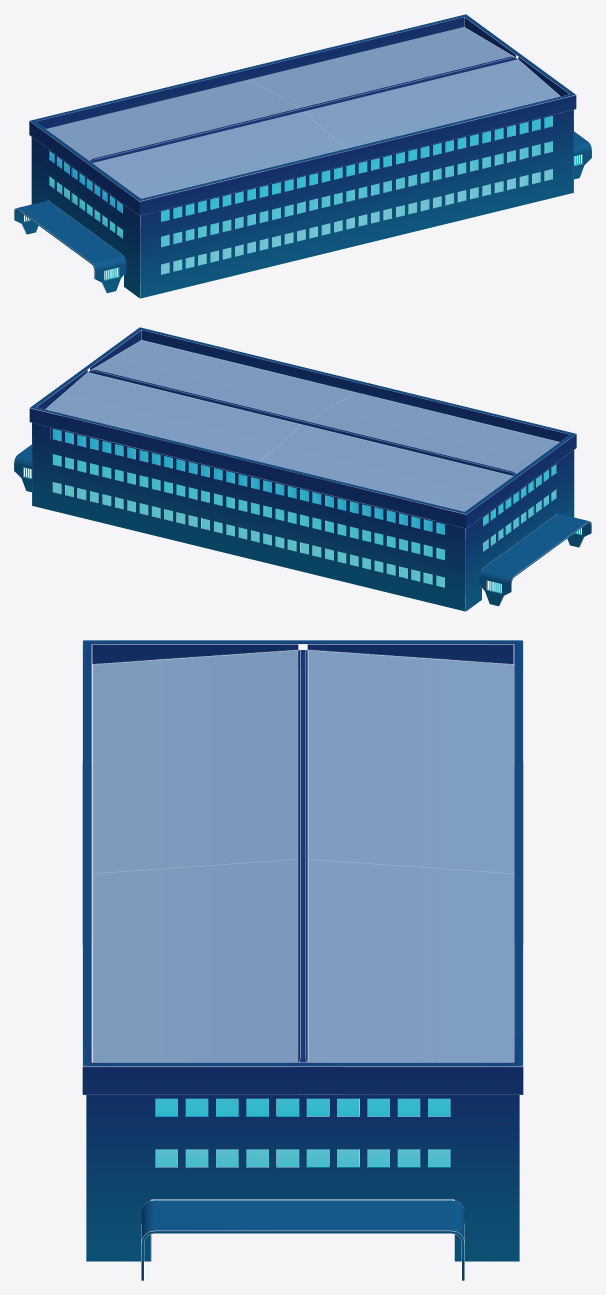
File: 科技_工业建筑_005.glb
3 renders of one model, top to bottom at view 1: azimuth 30°, elevation 25°; view 2: azimuth 150°, elevation 25°; view 3: azimuth 270°, elevation 25°, orthographic. The views are drawn at different scales.
Visible parts, largest first — view 1: 科技_工业建筑_005; view 2: 科技_工业建筑_005; view 3: 科技_工业建筑_005.
Part boxes in pixels (bbox=[...]): 科技_工业建筑_005: bbox=[14, 14, 591, 298]; 科技_工业建筑_005: bbox=[14, 327, 591, 611]; 科技_工业建筑_005: bbox=[82, 640, 523, 1280].
Bounding box in the file's own units: 44.11 × 8.34 × 16.96.
2 materials, 2 textured.
